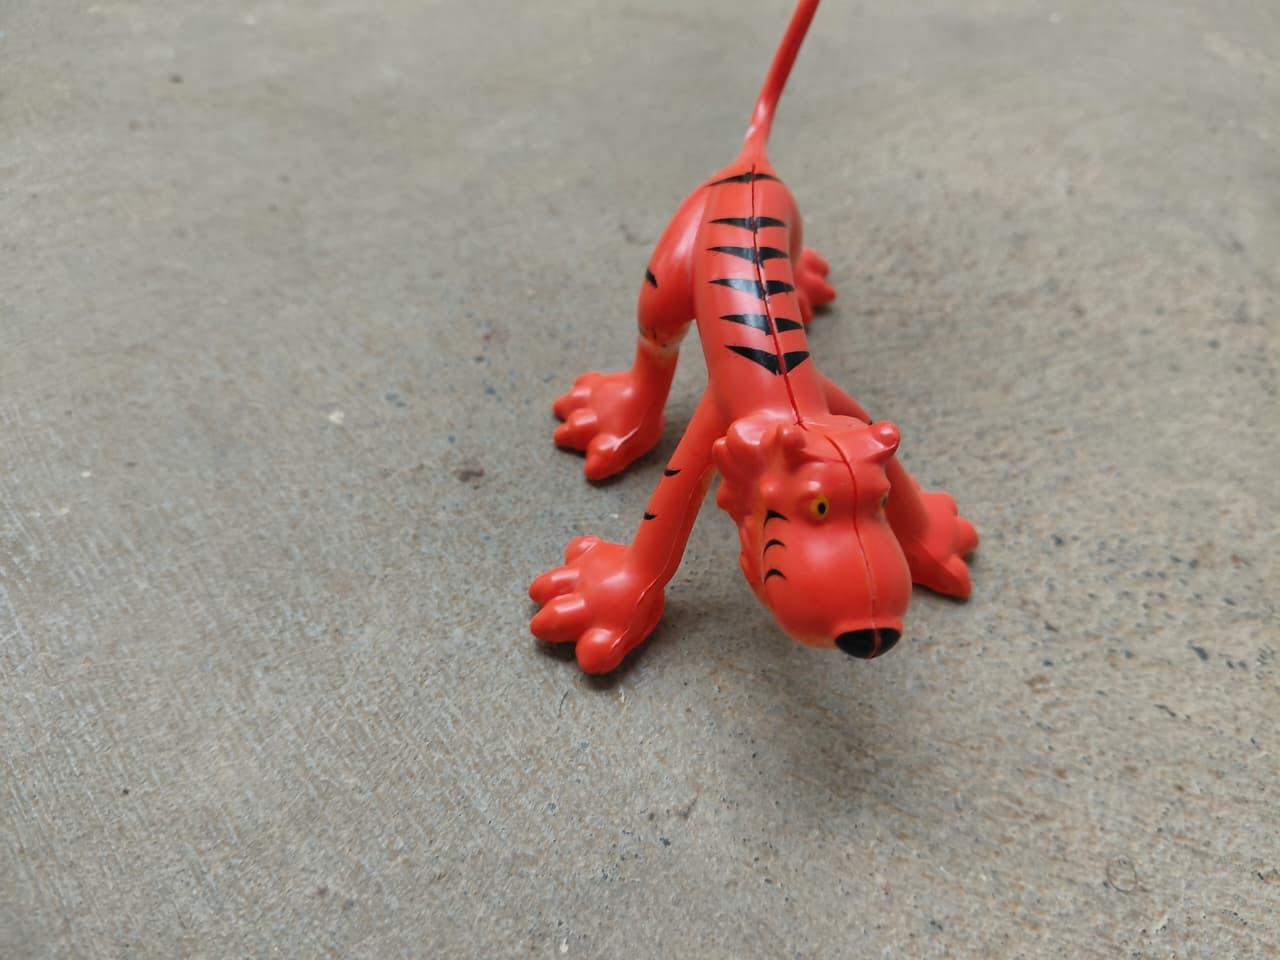tiger: (524, 2, 984, 686)
